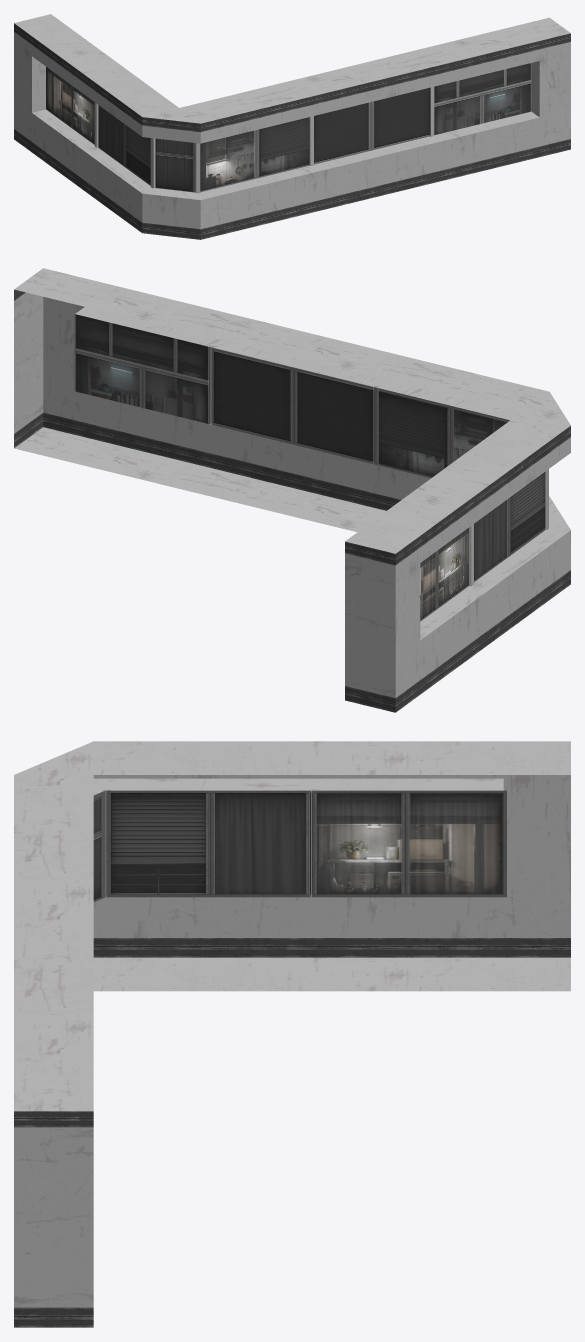
The model's file is CP_Corner_Module_01.fbx.
3 views of the same model, one above another, from view 1: azimuth 30°, elevation 25°; view 2: azimuth 150°, elevation 25°; view 3: azimuth 270°, elevation 25° (orthographic). The views are drawn at different scales.
Visible parts, largest first — view 1: CP_Corner_Module_01; view 2: CP_Corner_Module_01; view 3: CP_Corner_Module_01.
Part boxes in pixels (<box>): CP_Corner_Module_01: <box>14,14,570,239</box>; CP_Corner_Module_01: <box>14,268,570,712</box>; CP_Corner_Module_01: <box>14,741,570,1327</box>.
Size of the model in its own units: 1100 by 300 by 700.
